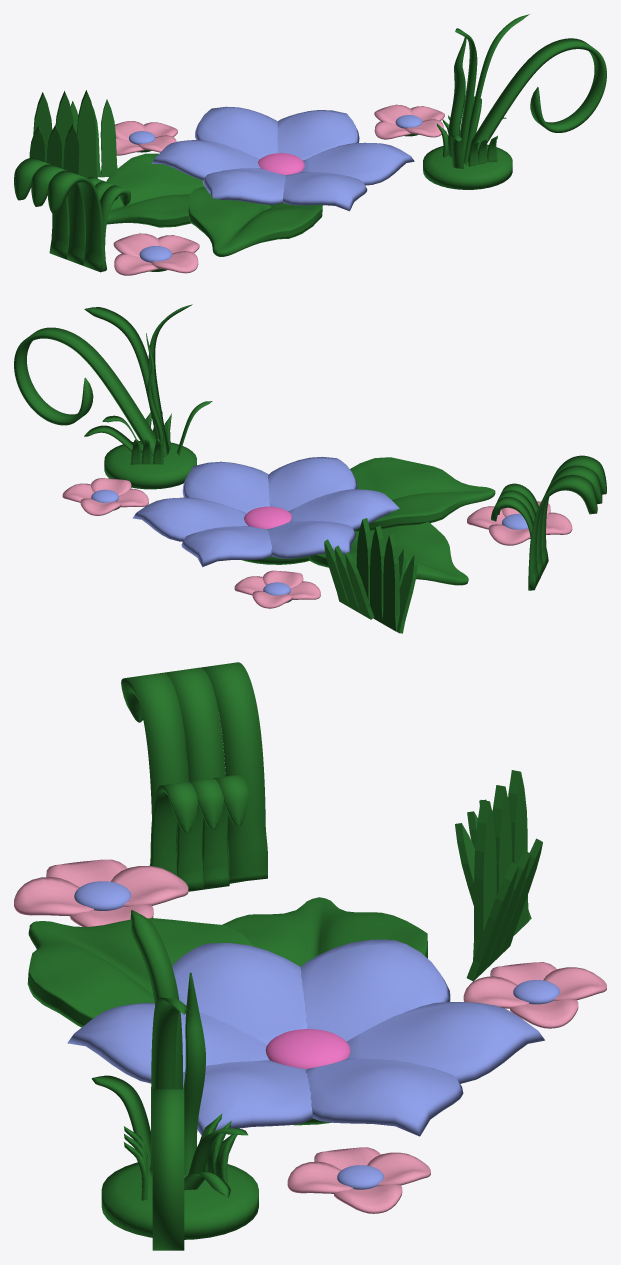
The model's file is smallflowers.fbx.
The picture shows the model from 3 angles, top to bottom: view 1: azimuth 30°, elevation 25°; view 2: azimuth 150°, elevation 25°; view 3: azimuth 270°, elevation 25°; orthographic projection. The views are drawn at different scales.
Parts seen in each view (by area): view 1: flowerpetals, grass01, flower01base, grass03, grass02, Cylinder, Cylinder.001, Cylinder.002, flowerscenter01; view 2: flowerpetals, grass01, flower01base, grass02, grass03, Cylinder, Cylinder.002, Cylinder.001, flowerscenter01; view 3: flowerpetals, grass03, grass01, flower01base, grass02, Cylinder, Cylinder.001, Cylinder.002, flowerscenter01.
Boxes of the visible parts, bbox=[...] form: flowerpetals: bbox=[151, 106, 414, 211]; grass01: bbox=[423, 14, 606, 189]; flower01base: bbox=[106, 153, 322, 256]; grass03: bbox=[14, 158, 130, 272]; grass02: bbox=[29, 90, 117, 178]; Cylinder: bbox=[113, 233, 199, 275]; Cylinder.001: bbox=[374, 104, 444, 139]; Cylinder.002: bbox=[115, 121, 177, 155]; flowerscenter01: bbox=[258, 153, 304, 175]; flowerpetals: bbox=[132, 456, 399, 567]; grass01: bbox=[14, 304, 212, 489]; flower01base: bbox=[242, 457, 495, 585]; grass02: bbox=[324, 518, 417, 633]; grass03: bbox=[491, 455, 606, 590]; Cylinder: bbox=[467, 501, 572, 545]; Cylinder.002: bbox=[234, 570, 320, 608]; Cylinder.001: bbox=[62, 478, 148, 515]; flowerscenter01: bbox=[244, 506, 291, 529]; flowerpetals: bbox=[67, 939, 544, 1136]; grass03: bbox=[121, 662, 267, 891]; grass01: bbox=[91, 910, 258, 1250]; flower01base: bbox=[27, 897, 427, 1125]; grass02: bbox=[455, 770, 542, 981]; Cylinder: bbox=[14, 859, 188, 926]; Cylinder.001: bbox=[287, 1147, 430, 1213]; Cylinder.002: bbox=[463, 962, 606, 1028]; flowerscenter01: bbox=[265, 1029, 350, 1068].
Size of the model in its own units: 1471 by 396 by 753.
